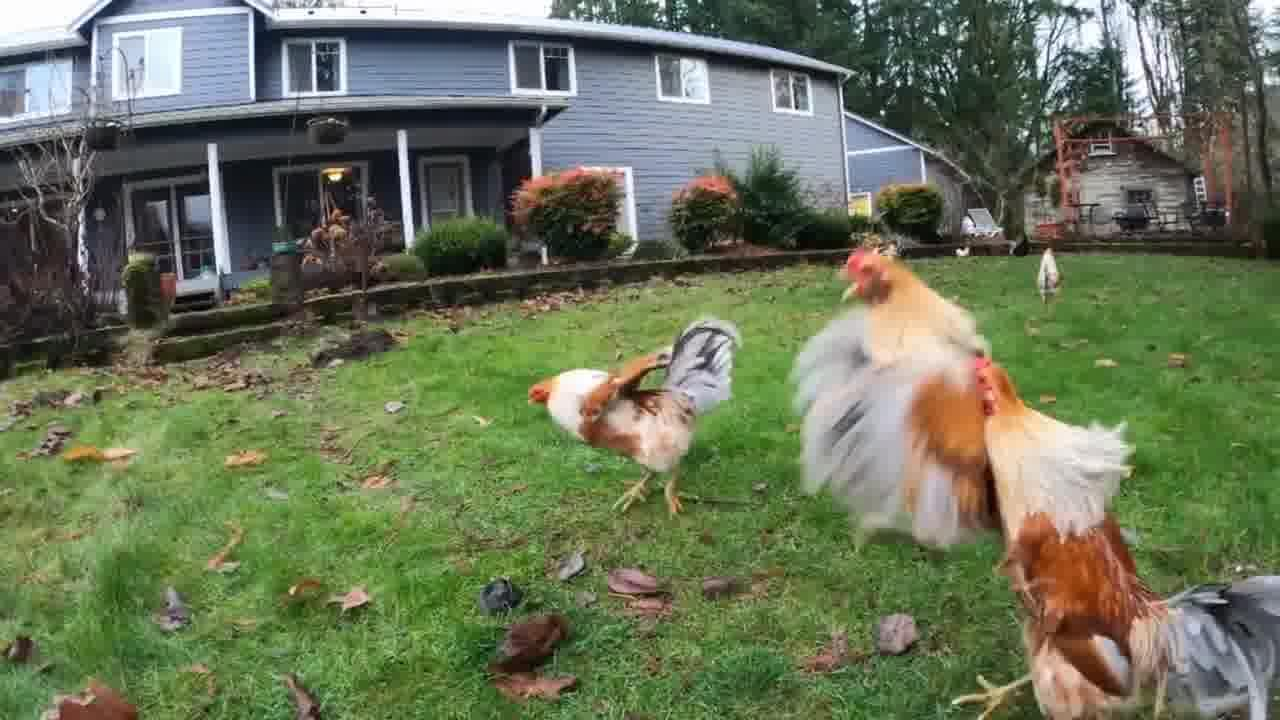Normal: (954, 356, 1280, 706), (824, 238, 1016, 528), (512, 320, 746, 514)
